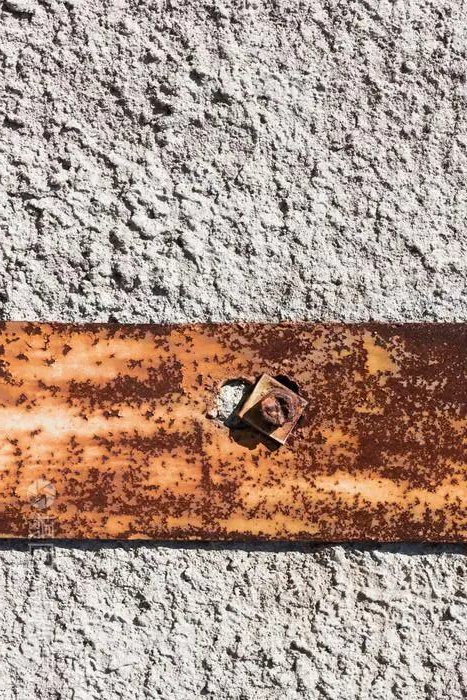Corrosion: (1, 320, 467, 544)
